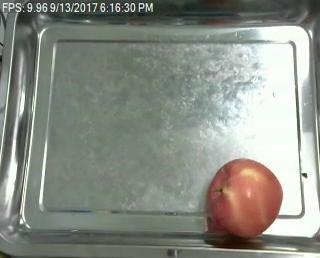apple: (206, 158, 286, 238)
